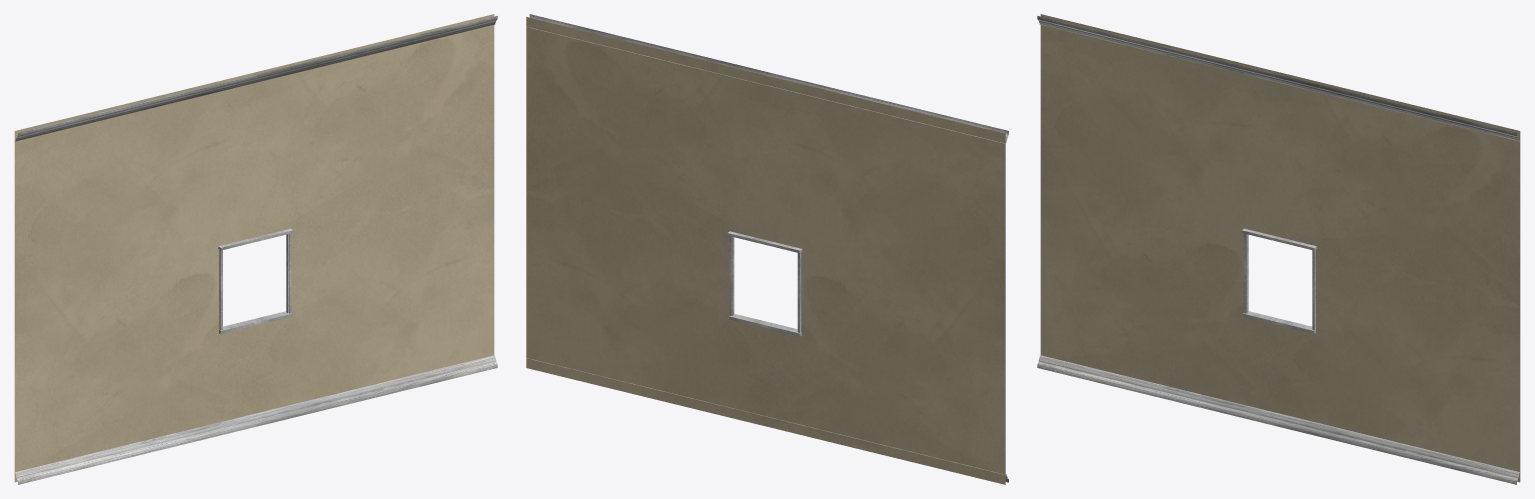
Rendered from WallWindow.fbx.
3 views of the same model, side by side, from view 1: azimuth 30°, elevation 25°; view 2: azimuth 150°, elevation 25°; view 3: azimuth 330°, elevation 25° (orthographic).
Parts seen in each view (by area): view 1: Cube.014; view 2: Cube.014; view 3: Cube.014.
Part boxes in pixels (x1,y1,x2,y2): Cube.014: (14,14,497,484); Cube.014: (526,14,1008,484); Cube.014: (1037,14,1520,484).
Bounding box in the file's own units: 2 × 1.4 × 0.0402.
